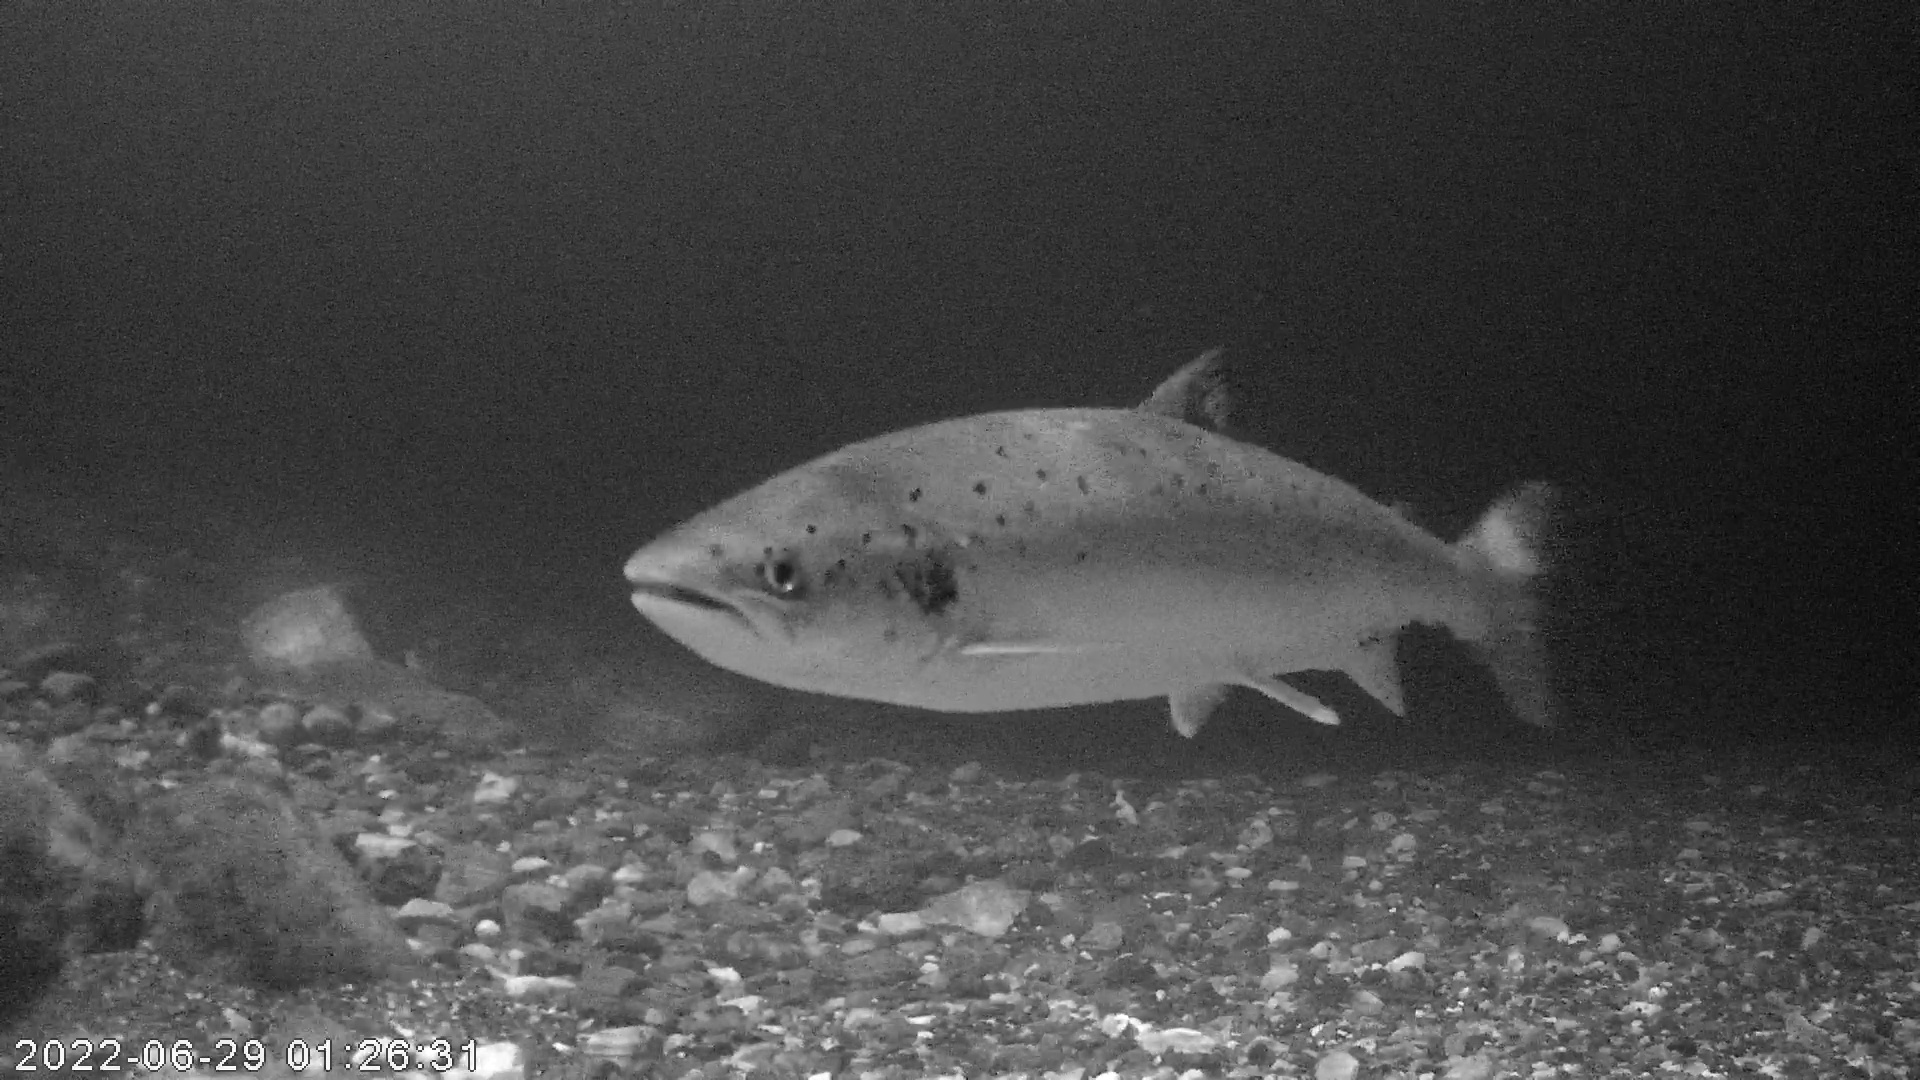salmon: (615, 343, 1569, 745)
